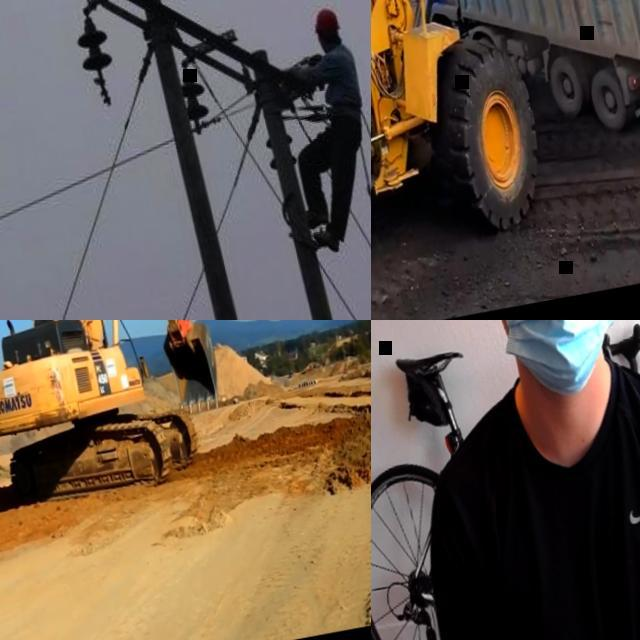helmet: (310, 7, 342, 37)
